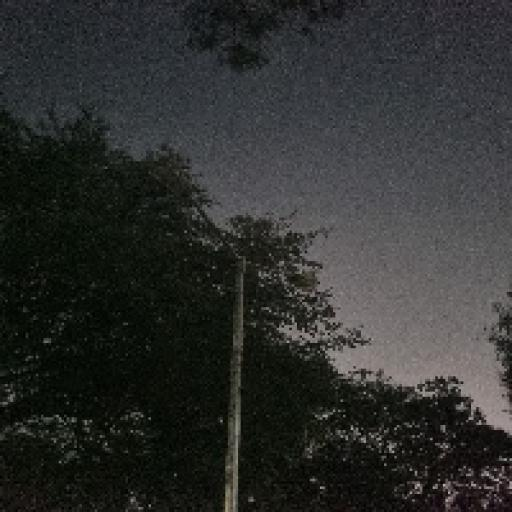Not Working: (137, 157, 210, 214)
